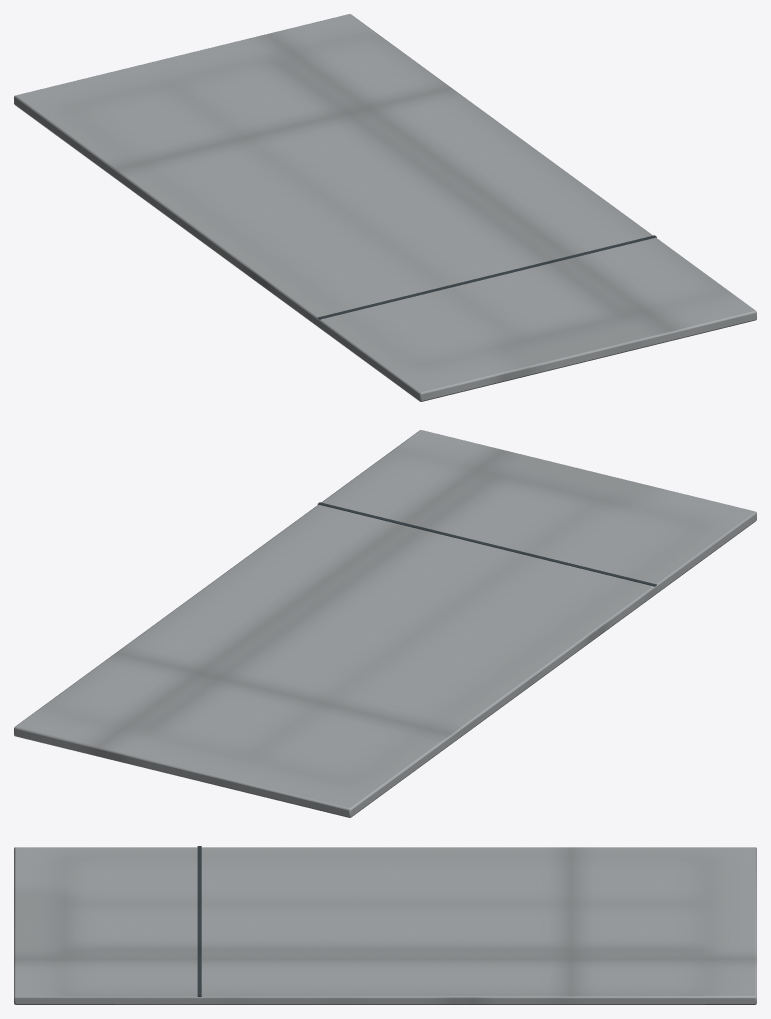
The model's file is 2-left-toy-leg-course-1-2.fbx.
3 views of the same model, one above another, from view 1: azimuth 30°, elevation 25°; view 2: azimuth 150°, elevation 25°; view 3: azimuth 270°, elevation 25° (orthographic). The views are drawn at different scales.
Visible parts, largest first — view 1: left-toy-leg-course-1-2; view 2: left-toy-leg-course-1-2; view 3: left-toy-leg-course-1-2.
Boxes of the visible parts, x1,y1,x2,y2 form: left-toy-leg-course-1-2: [14, 14, 756, 401]; left-toy-leg-course-1-2: [14, 430, 756, 817]; left-toy-leg-course-1-2: [14, 846, 756, 1004].
Size of the model in its own units: 4400 by 127 by 9200.
Materials: 1 (1 with a texture image).
